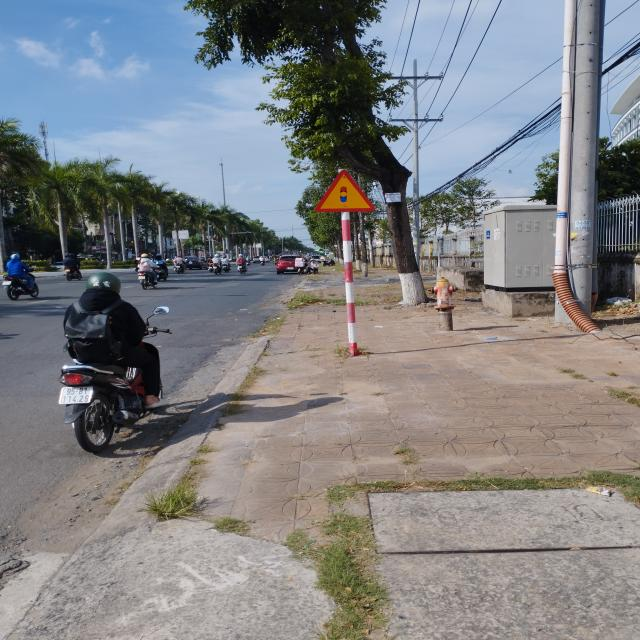Duong_Co_Go_Giam_Toc: (314, 170, 374, 212)
